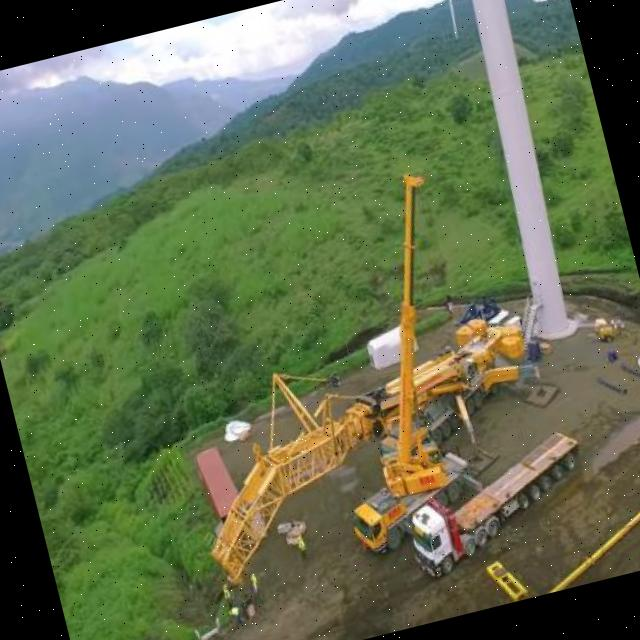Mobile Crane: (162, 291, 572, 591), (272, 164, 513, 560)
